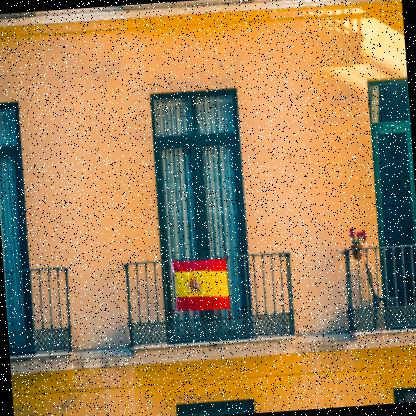es: (172, 258, 231, 315)
